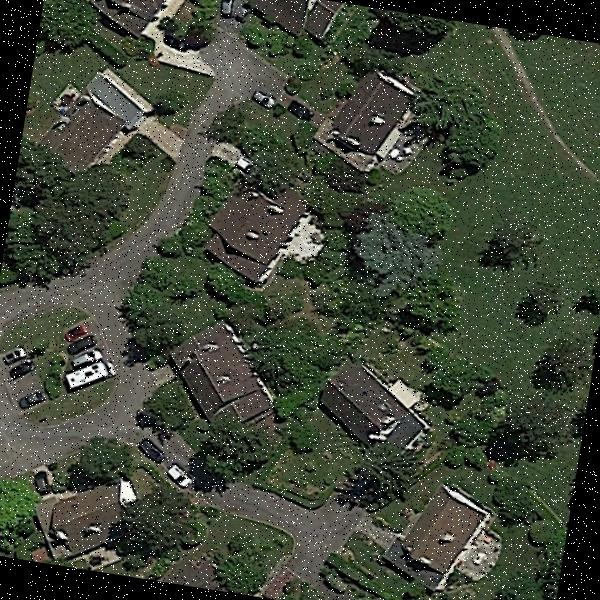Buildings: (43, 65, 143, 174), (220, 176, 304, 274), (404, 486, 493, 578), (176, 337, 270, 424), (48, 478, 132, 562), (320, 367, 414, 437), (240, 0, 346, 49), (98, 0, 165, 29)
